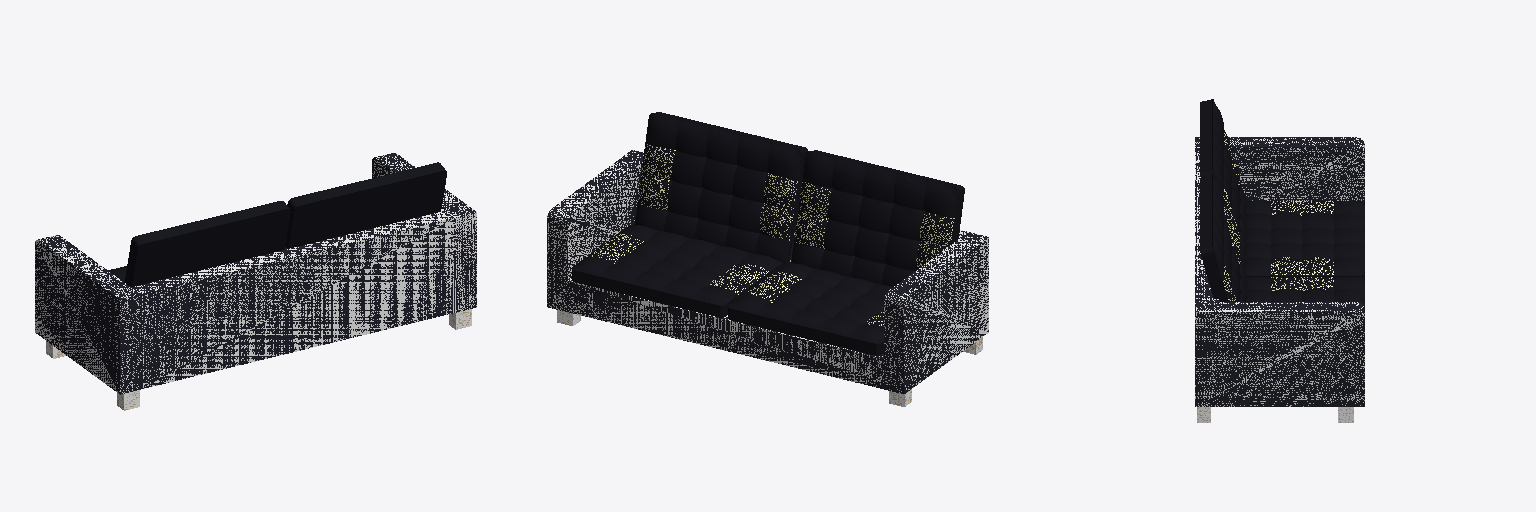
The picture shows the model from 3 angles: view 1: azimuth 30°, elevation 25°; view 2: azimuth 150°, elevation 25°; view 3: azimuth 270°, elevation 25°; orthographic projection.
Visible parts, largest first — view 1: mesh14_mesh14-geometry, mesh12_mesh12-geometry; view 2: mesh14_mesh14-geometry, mesh11_mesh11-geometry, mesh4_mesh4-geometry, mesh2_mesh2-geometry, mesh6_mesh6-geometry, mesh12_mesh12-geometry, mesh1_mesh1-geometry, mesh8_mesh8-geometry, mesh9_mesh9-geometry, mesh10_mesh10-geometry, mesh5_mesh5-geometry; view 3: mesh14_mesh14-geometry, mesh12_mesh12-geometry, mesh11_mesh11-geometry, mesh4_mesh4-geometry, mesh2_mesh2-geometry, mesh6_mesh6-geometry, mesh8_mesh8-geometry, mesh10_mesh10-geometry, mesh1_mesh1-geometry, mesh9_mesh9-geometry.
Boxes of the visible parts, <box> form: mesh14_mesh14-geometry: <box>35,153,476,410</box>; mesh12_mesh12-geometry: <box>125,163,446,286</box>; mesh14_mesh14-geometry: <box>547,150,988,406</box>; mesh11_mesh11-geometry: <box>617,181,919,324</box>; mesh4_mesh4-geometry: <box>633,150,923,313</box>; mesh2_mesh2-geometry: <box>648,120,927,296</box>; mesh6_mesh6-geometry: <box>601,211,914,335</box>; mesh12_mesh12-geometry: <box>572,112,964,355</box>; mesh1_mesh1-geometry: <box>586,173,954,313</box>; mesh8_mesh8-geometry: <box>602,143,945,326</box>; mesh9_mesh9-geometry: <box>572,143,957,313</box>; mesh10_mesh10-geometry: <box>617,114,883,343</box>; mesh5_mesh5-geometry: <box>571,113,958,343</box>; mesh14_mesh14-geometry: <box>1195,137,1364,422</box>; mesh12_mesh12-geometry: <box>1200,99,1364,301</box>; mesh11_mesh11-geometry: <box>1232,171,1333,301</box>; mesh4_mesh4-geometry: <box>1223,144,1301,301</box>; mesh2_mesh2-geometry: <box>1213,114,1270,301</box>; mesh6_mesh6-geometry: <box>1240,198,1364,306</box>; mesh8_mesh8-geometry: <box>1221,157,1333,301</box>; mesh10_mesh10-geometry: <box>1213,158,1364,291</box>; mesh1_mesh1-geometry: <box>1223,130,1333,301</box>; mesh9_mesh9-geometry: <box>1213,100,1364,291</box>.
Size of the model in its own units: 0.8564 by 0.3761 by 0.3538.
7 materials, 1 textured.